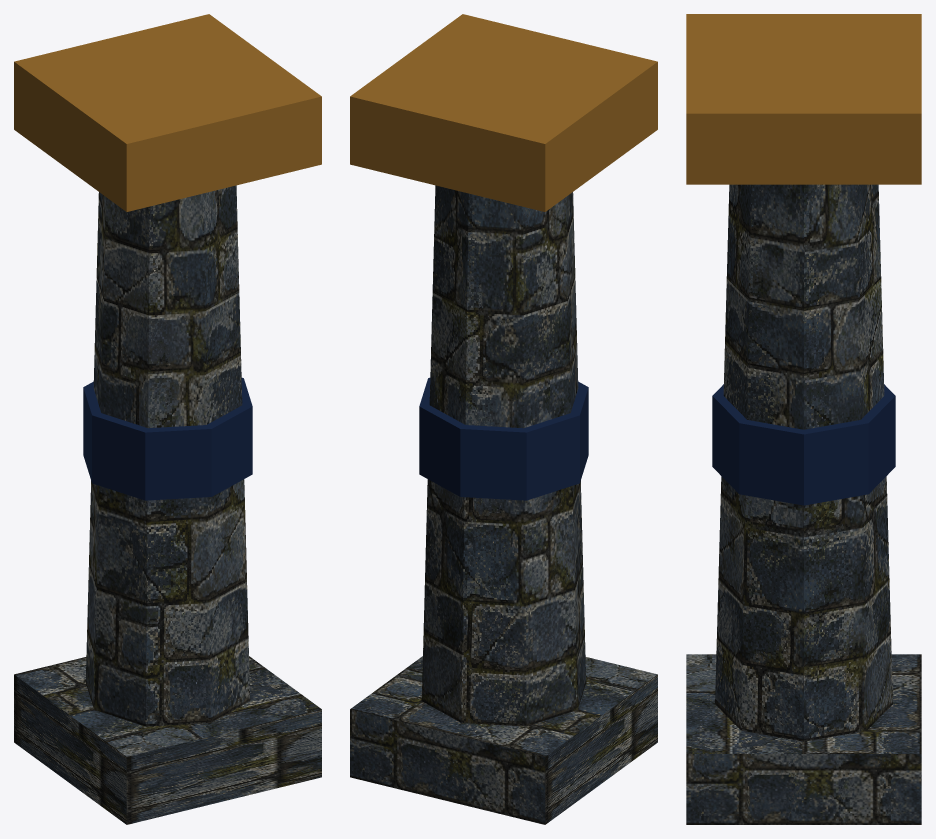
Rendered from M_Pilar_Azul.obj.
3 renders of one model, left to right at view 1: azimuth 30°, elevation 25°; view 2: azimuth 150°, elevation 25°; view 3: azimuth 270°, elevation 25°, orthographic. The views are drawn at different scales.
Parts seen in each view (by area): view 1: M_Pilar_Azul; view 2: M_Pilar_Azul; view 3: M_Pilar_Azul.
Boxes of the visible parts, box(x1,y1,x2,y2) form: M_Pilar_Azul: box(14, 14, 321, 824); M_Pilar_Azul: box(350, 14, 657, 824); M_Pilar_Azul: box(686, 14, 921, 824).
Bounding box in the file's own units: 0.9 × 3 × 0.9.
Materials: 3 (1 with a texture image).
